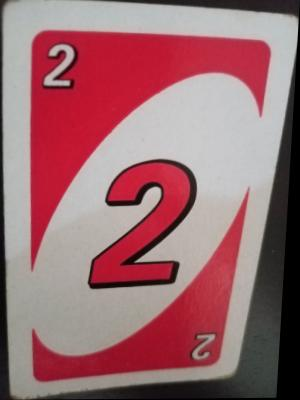num_2: (189, 328, 226, 366)
